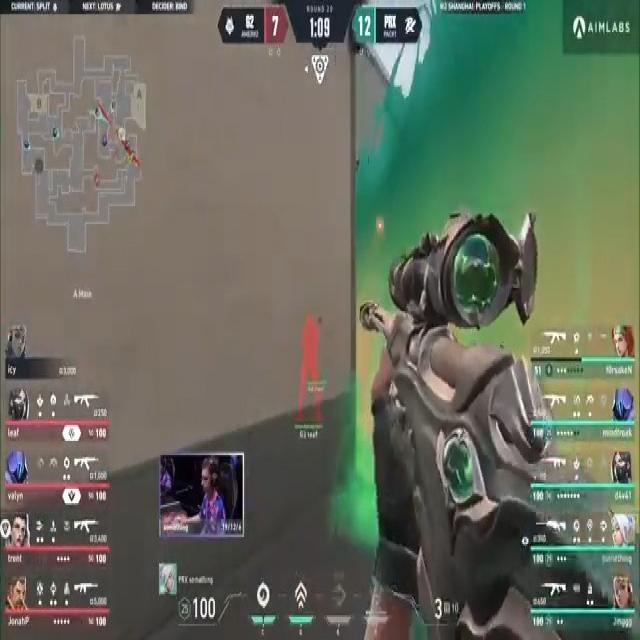enemy behind wall: (294, 307, 328, 431)
